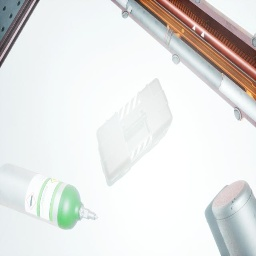0: (0, 163, 97, 230)
FirstAidBox ,: (96, 78, 173, 182)
NitrogenTank ,: (212, 180, 256, 256)
